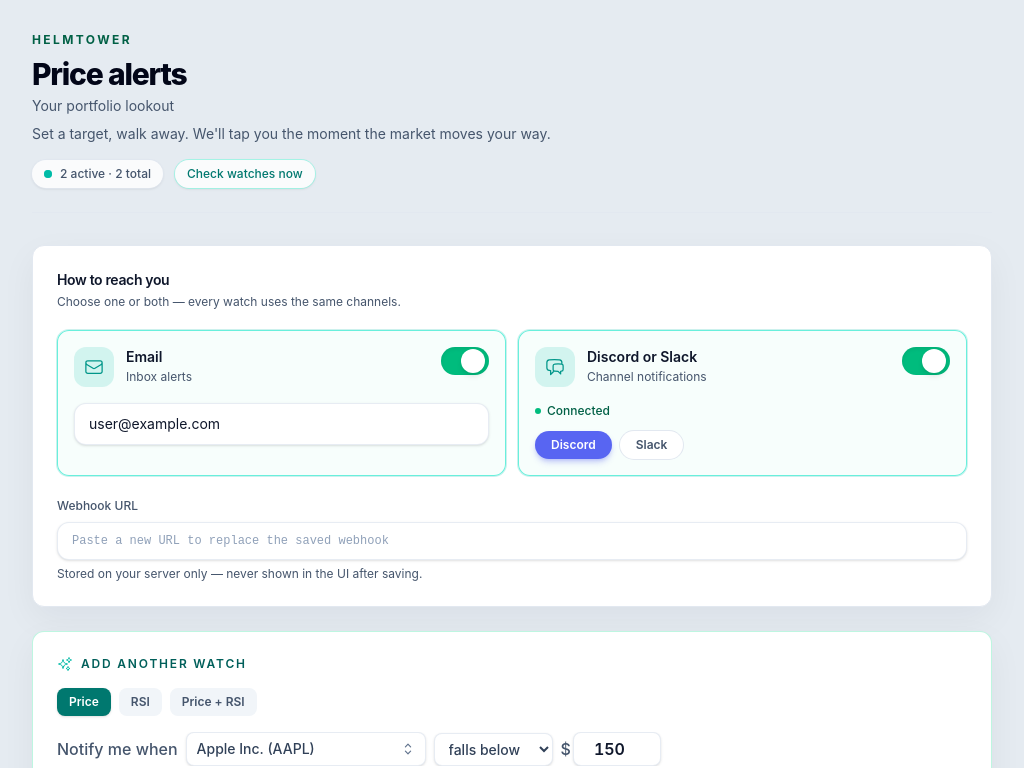
Test: AlertsSettings dual-channel composer add defer › adds locally without persisting when delivery channels are off
The width and height of the screenshot is (1024, 768).
Expected: the button "Check watches now" is shown, [175,160,315,188]
Click the switch named "Email".
click(465, 361)  # box [441,347,489,375]
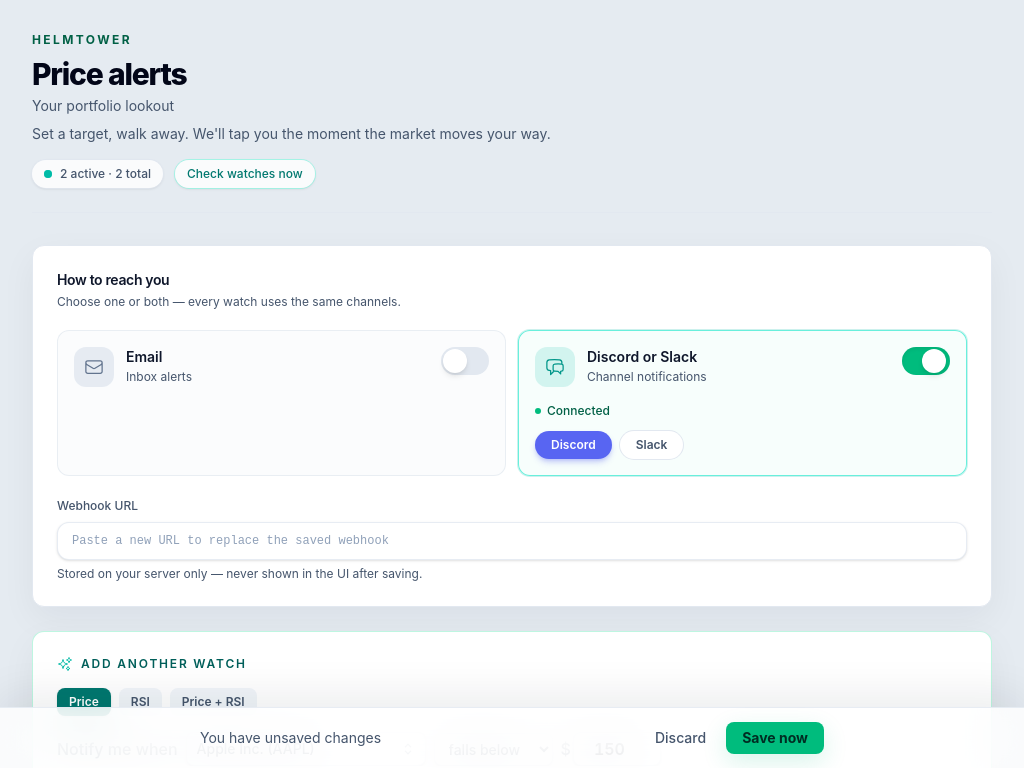
Click the switch named "Discord or Slack".
click(926, 361)  # box [902,347,950,375]
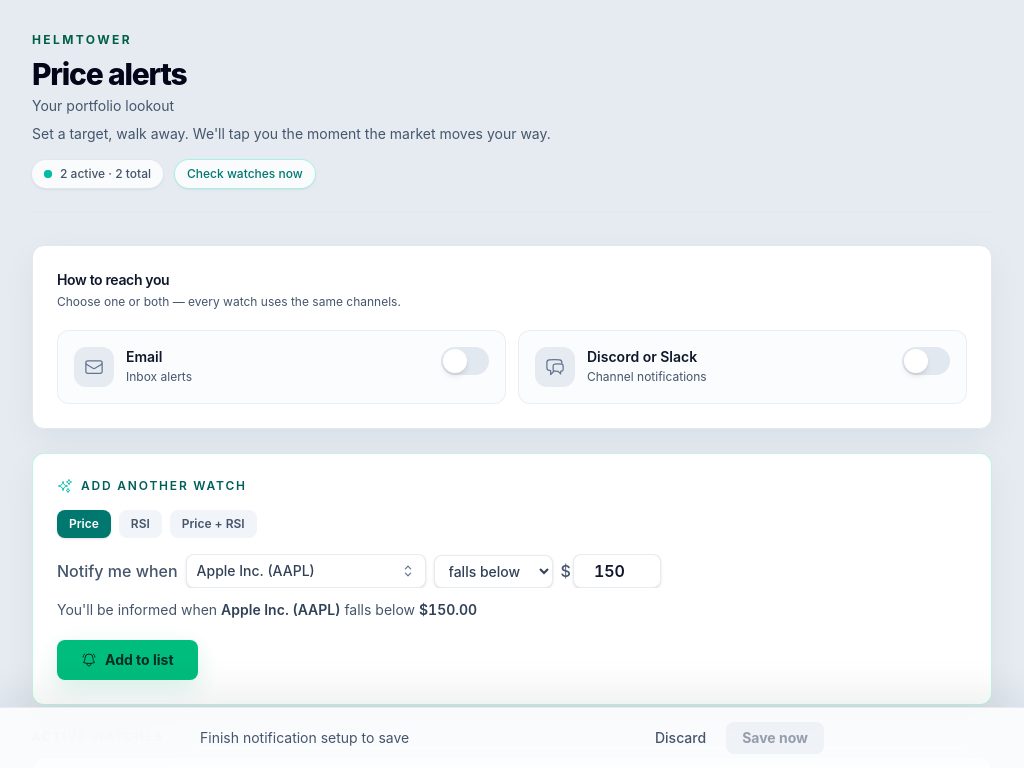
Result: the button "Add to list" is shown at [57,640,198,680]
Replace the text in the number field named "Target price" with "200" at (617, 571), box [573,554,661,588]
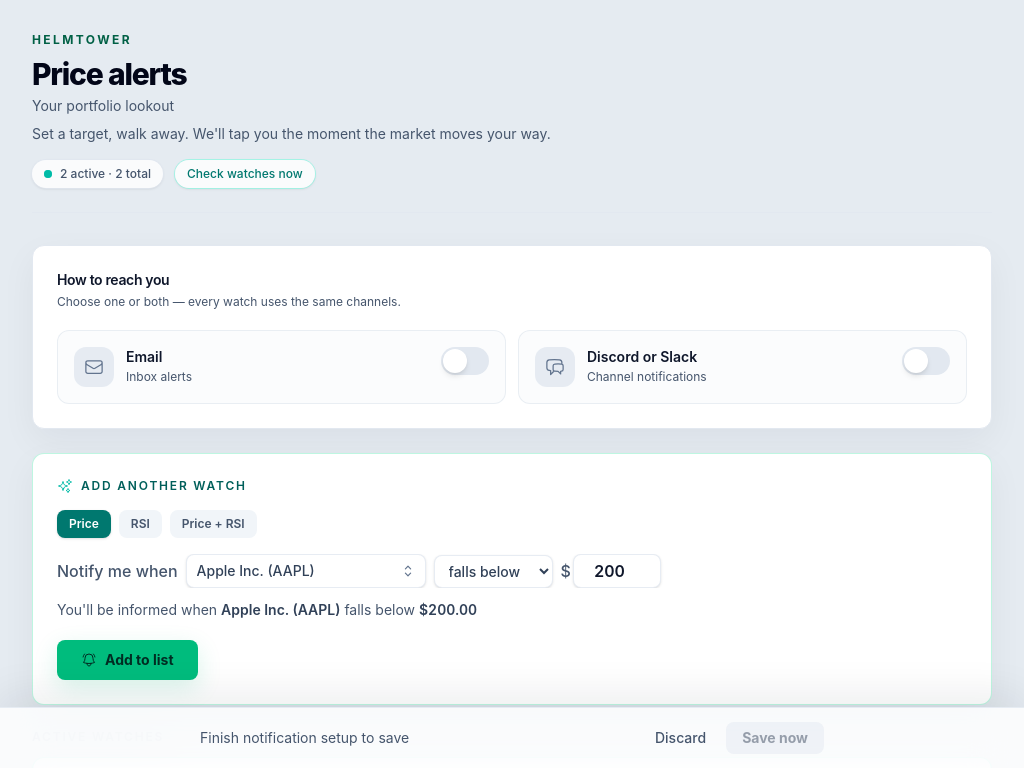
Click the button "Add to list".
click(127, 660)  # box [57,640,198,680]
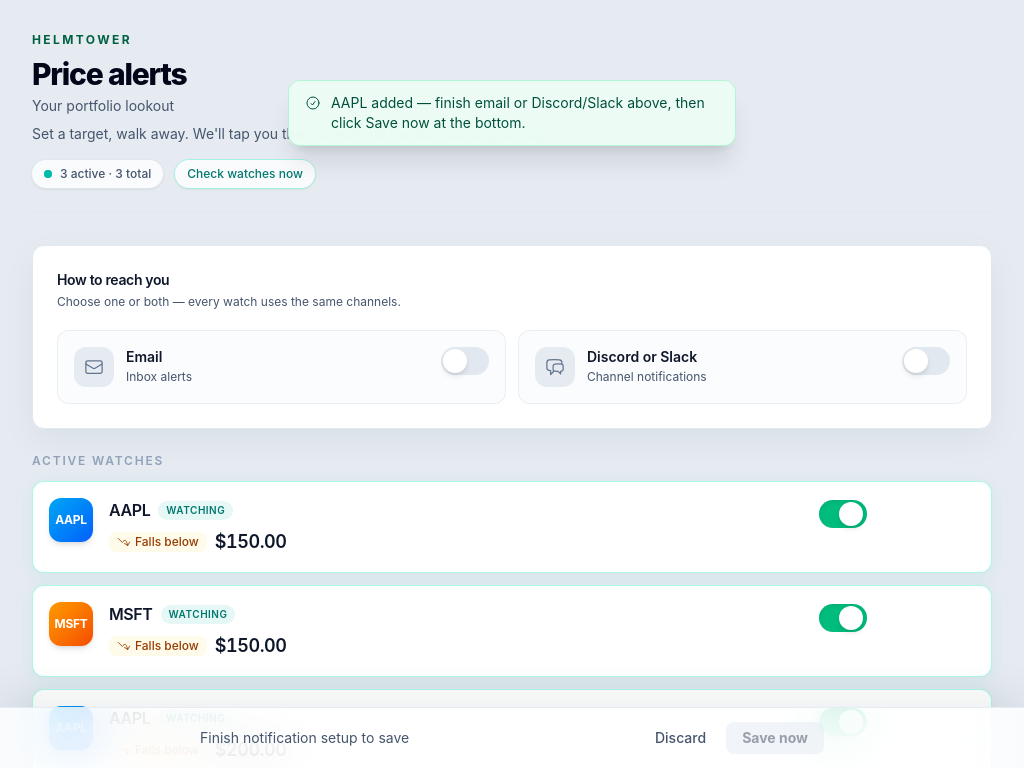
Result: the text "Finish notification setup to save" is shown at [200,728,409,748]
Result: the button "Save now" is disabled at [726,722,824,754]
Result: the message shows "AAPL added — finish email or Discord/Slack above, then click Save now at the bottom." at [331,94,705,131]
